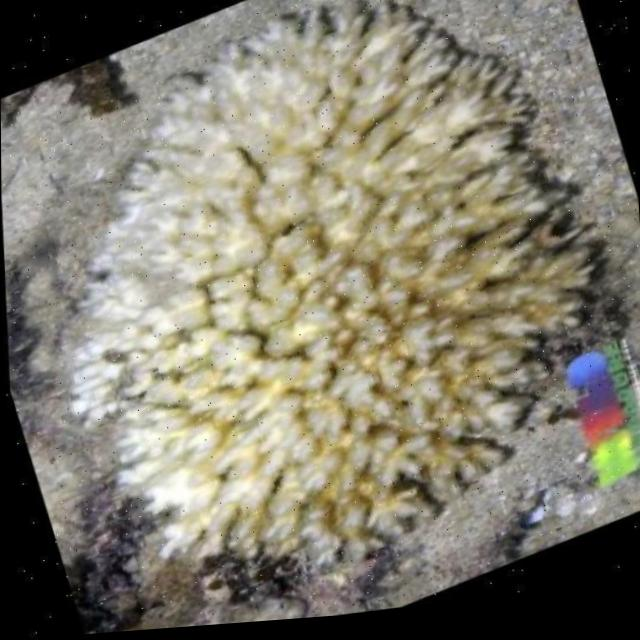Bleached Coral: (57, 21, 574, 586)
